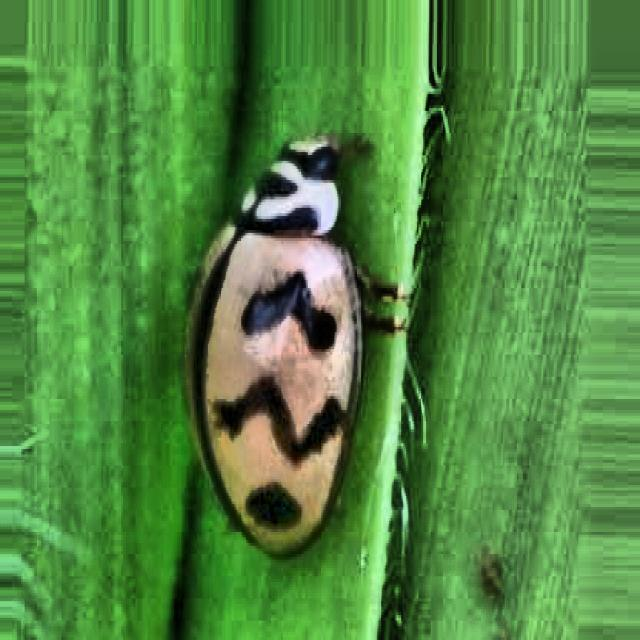Asian-Lady-beetle: (154, 93, 433, 635)
